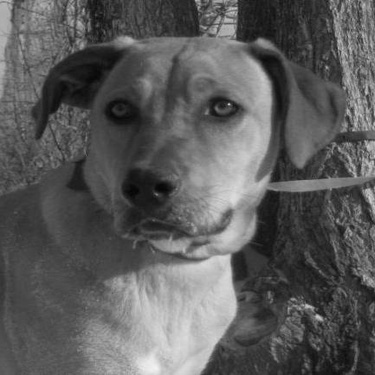dog: (1, 31, 351, 371)
